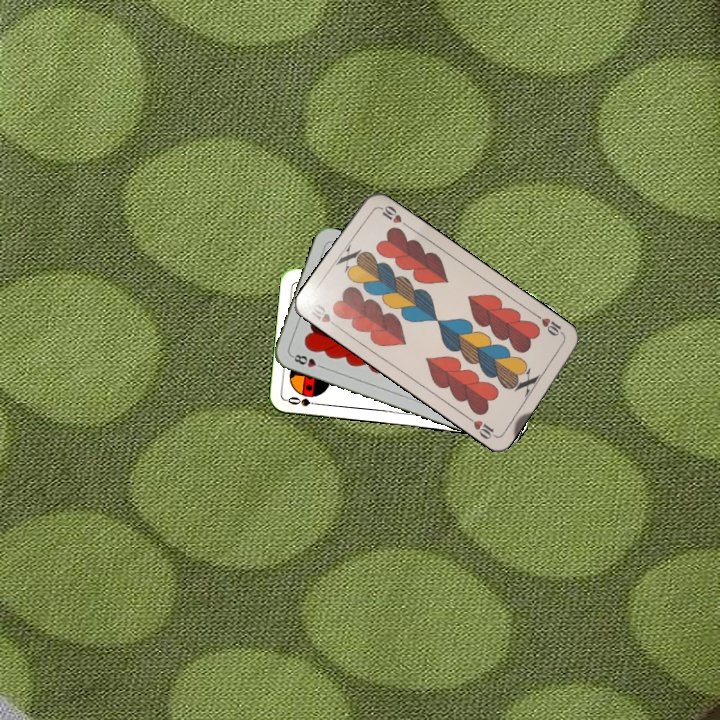H10: (304, 300, 342, 331), (532, 310, 567, 339)
H8: (288, 350, 327, 371)
SO: (283, 393, 324, 409)
